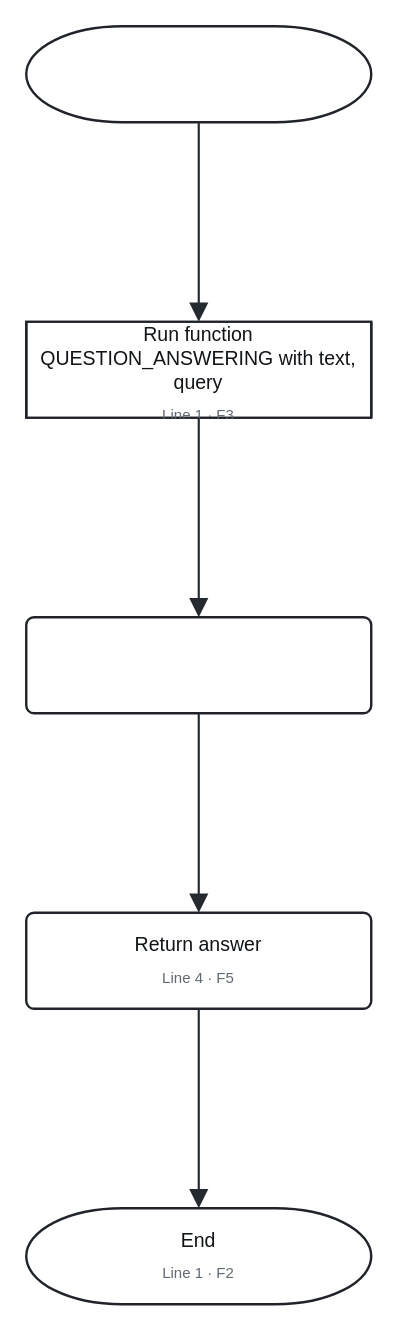
Some shapes in this 399 by 1332 pixel diagram are drawn without their labels. The shapes that lost their labels are listed below. From the top down, each one's box as (x1, y1, x2, y2) in pixels, then its label:
(24, 24, 372, 123): Start Line 1 · F1
(24, 615, 372, 714): Set answer to the result of FIND_ANSWER(text, query) Line 3 · F4
